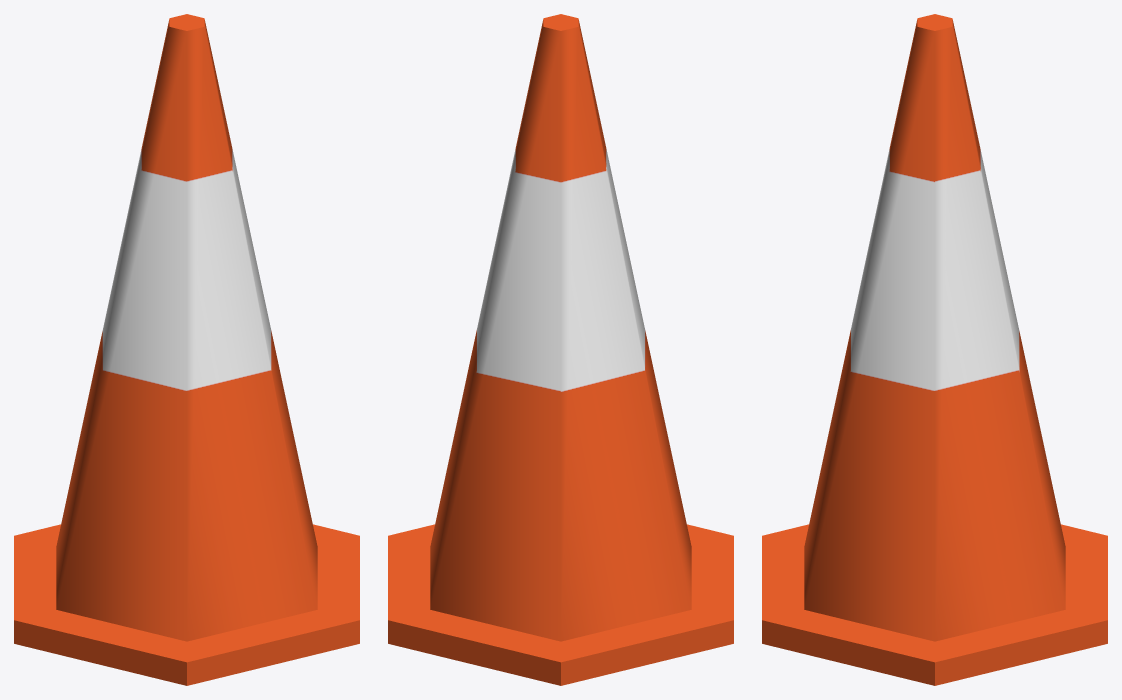
The model's file is street cone.FBX.
3 renders of one model, left to right at view 1: azimuth 30°, elevation 25°; view 2: azimuth 150°, elevation 25°; view 3: azimuth 270°, elevation 25°, orthographic.
Parts seen in each view (by area): view 1: street cone; view 2: street cone; view 3: street cone.
Boxes of the visible parts, left/top/right/bottom form: street cone: left=14, top=14, right=359, bottom=685; street cone: left=388, top=14, right=733, bottom=685; street cone: left=762, top=14, right=1107, bottom=685.
Bounding box in the file's own units: 49.35 × 78.93 × 42.74.
1 material, 1 textured.
